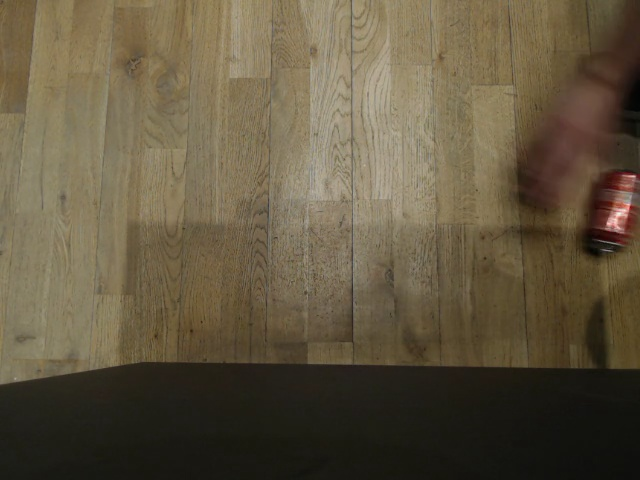cola: (587, 169, 639, 257)
